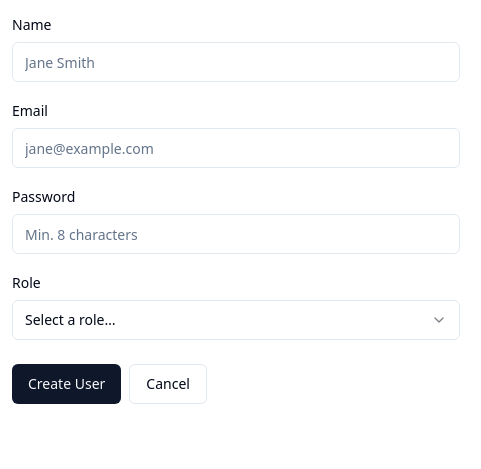
Test: UserForm › create mode › shows a length error when password is fewer than 8 characters
This screenshot has width=481, height=469.
Type "Alice" into the field labelled "Name" at (236, 62), box [12, 42, 460, 82]
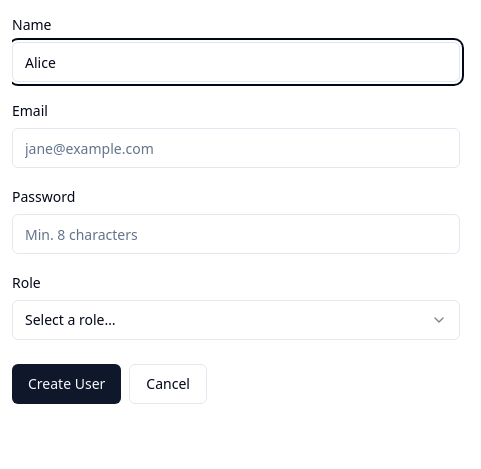
Type "alice@example.com" into the field labelled "Email" at (236, 148), box [12, 128, 460, 168]
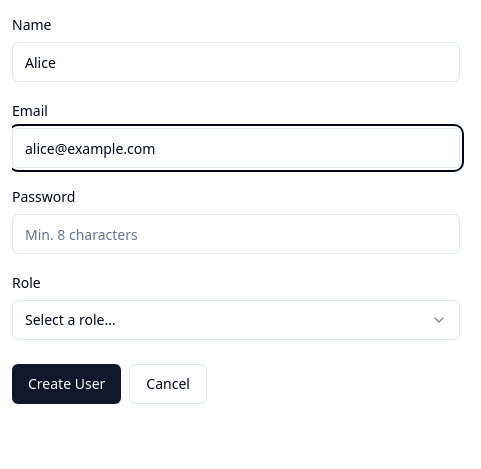
Type "short" into the password field labelled "Password" at (236, 234), box [12, 214, 460, 254]
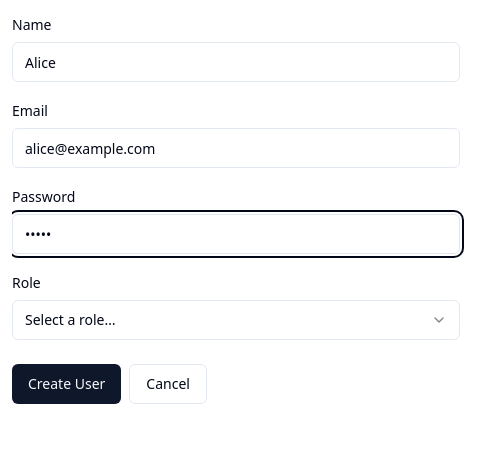
Click the button "Create User" at (67, 384), box [12, 364, 121, 404]
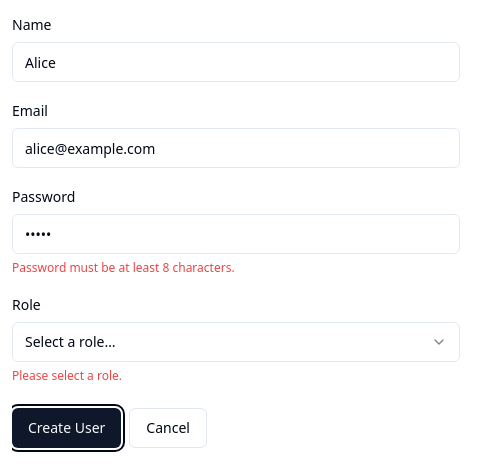
expect the text "Password must be at least 8 characters." is shown: met, box [12, 259, 235, 276]
